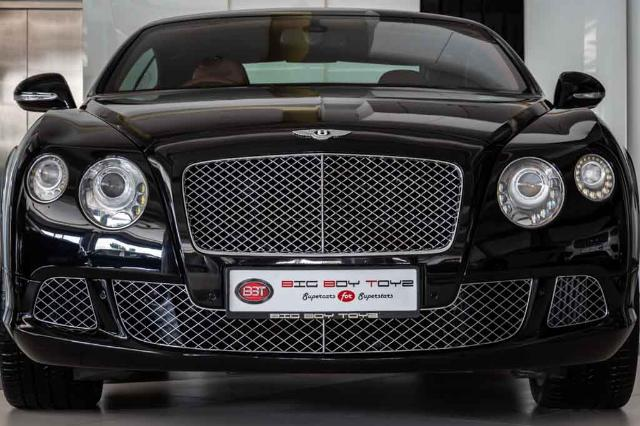bentley: (1, 8, 640, 410)
